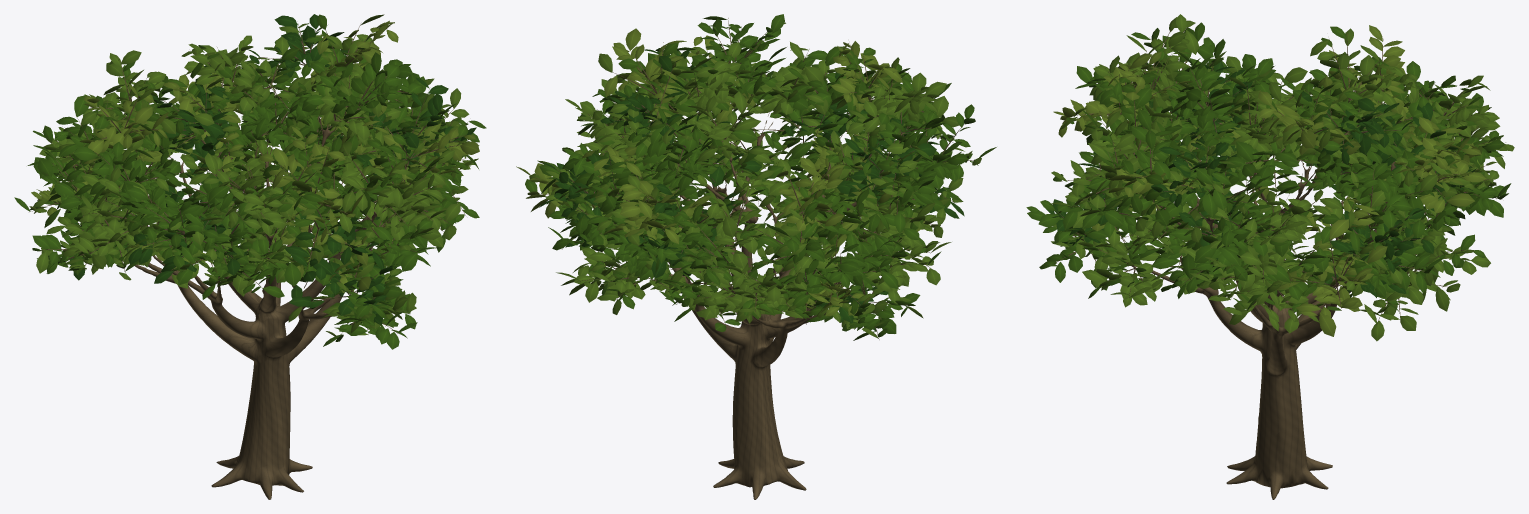
Rendered from Broadleaf.glb.
3 views of the same model, side by side, from view 1: azimuth 30°, elevation 25°; view 2: azimuth 150°, elevation 25°; view 3: azimuth 270°, elevation 25° (orthographic). The views are drawn at different scales.
Visible parts, largest first — view 1: Broadleaf_Layered_Leaf_Clusters.006, Broadleaf_Tapered_Branch_Network.007, Broadleaf_Terminal_Shoots.006; view 2: Broadleaf_Layered_Leaf_Clusters.006, Broadleaf_Tapered_Branch_Network.007, Broadleaf_Terminal_Shoots.006; view 3: Broadleaf_Layered_Leaf_Clusters.006, Broadleaf_Tapered_Branch_Network.007, Broadleaf_Terminal_Shoots.006.
Part boxes in pixels (x1=…): Broadleaf_Layered_Leaf_Clusters.006: x1=14, y1=14, x2=486, y2=349; Broadleaf_Tapered_Branch_Network.007: x1=127, y1=107, x2=386, y2=499; Broadleaf_Terminal_Shoots.006: x1=32, y1=24, x2=467, y2=334; Broadleaf_Layered_Leaf_Clusters.006: x1=516, y1=14, x2=996, y2=340; Broadleaf_Tapered_Branch_Network.007: x1=668, y1=111, x2=878, y2=499; Broadleaf_Terminal_Shoots.006: x1=533, y1=18, x2=974, y2=339; Broadleaf_Layered_Leaf_Clusters.006: x1=1026, y1=14, x2=1514, y2=341; Broadleaf_Tapered_Branch_Network.007: x1=1123, y1=119, x2=1397, y2=499; Broadleaf_Terminal_Shoots.006: x1=1054, y1=27, x2=1505, y2=324.
Size of the model in its own units: 8 by 7.97 by 8.01.
2 materials, 2 textured.
